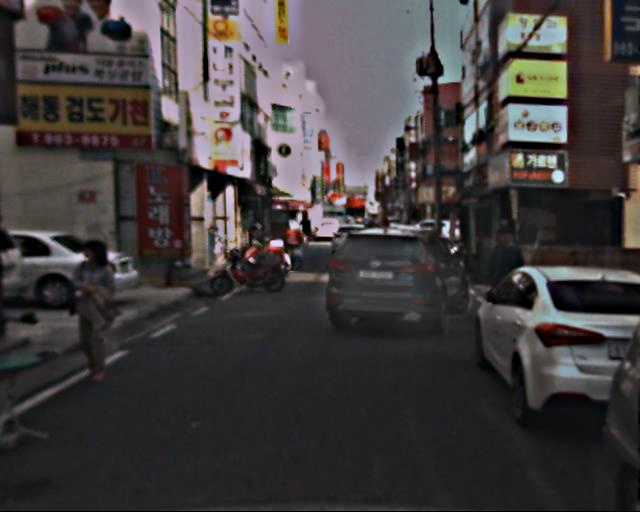person: (66, 235, 135, 380), (483, 223, 534, 338)
